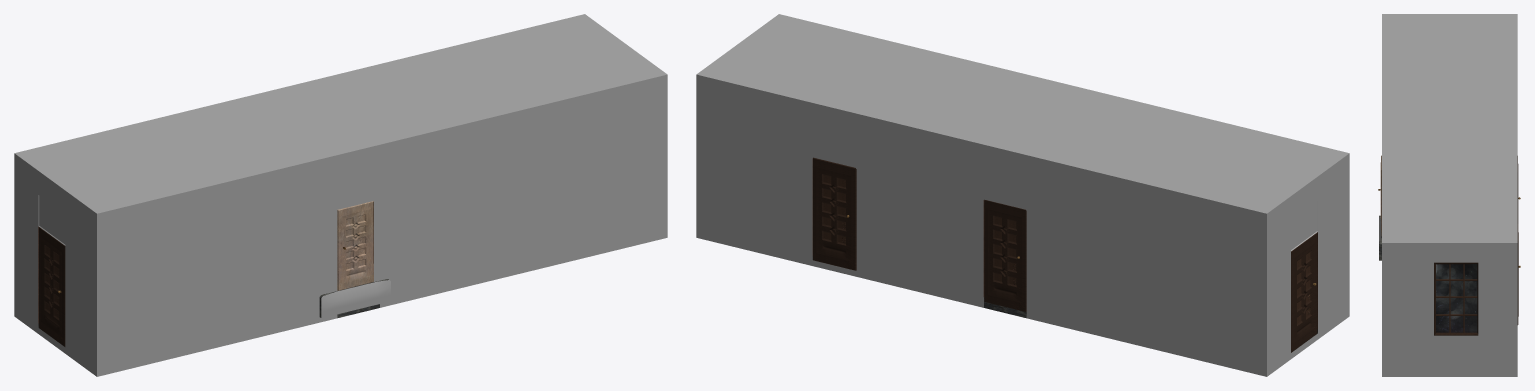
The model's file is side_hallway.fbx.
3 views of the same model, side by side, from view 1: azimuth 30°, elevation 25°; view 2: azimuth 150°, elevation 25°; view 3: azimuth 270°, elevation 25° (orthographic). The views are drawn at different scales.
Parts seen in each view (by area): view 1: wall, ceiling, floor, dining_room:pCube68, pCube35, office1:stony_stairs; view 2: wall, ceiling, pCube35 (×2), floor, office1:pCube35; view 3: ceiling, wall, office1:pPlane1, floor, office1:pCube10, pCube35, dining_room:pCube68, office1:pCube15, office1:pCube14.
Part boxes in pixels (x1,y1,x2,y2): wall: (14, 80, 667, 366); ceiling: (14, 14, 667, 219); floor: (14, 227, 667, 376); dining_room:pCube68: (337, 201, 373, 290); pCube35: (39, 227, 65, 346); office1:stony_stairs: (319, 279, 390, 318); wall: (696, 80, 1349, 366); ceiling: (696, 14, 1349, 219); pCube35 (×2): (813, 157, 1317, 352); floor: (696, 227, 1349, 376); office1:pCube35: (984, 199, 1026, 311); ceiling: (1382, 14, 1517, 247); wall: (1382, 247, 1517, 368); office1:pPlane1: (1436, 264, 1477, 332); floor: (1382, 368, 1517, 376); office1:pCube10: (1434, 262, 1478, 335); pCube35: (1517, 224, 1520, 324); dining_room:pCube68: (1378, 155, 1381, 235); office1:pCube15: (1463, 264, 1464, 332); office1:pCube14: (1449, 264, 1450, 332).
Bounding box in the file's own units: 96.66 × 26.3 × 25.34.
